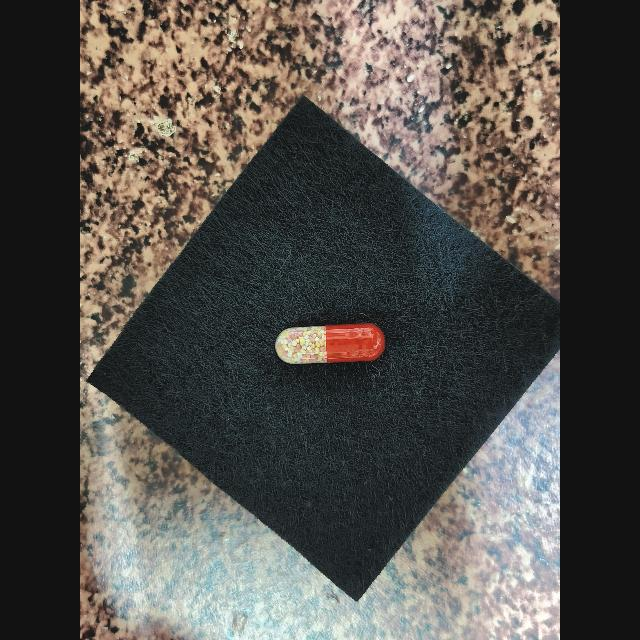Intact Capsule: (275, 323, 385, 364)
